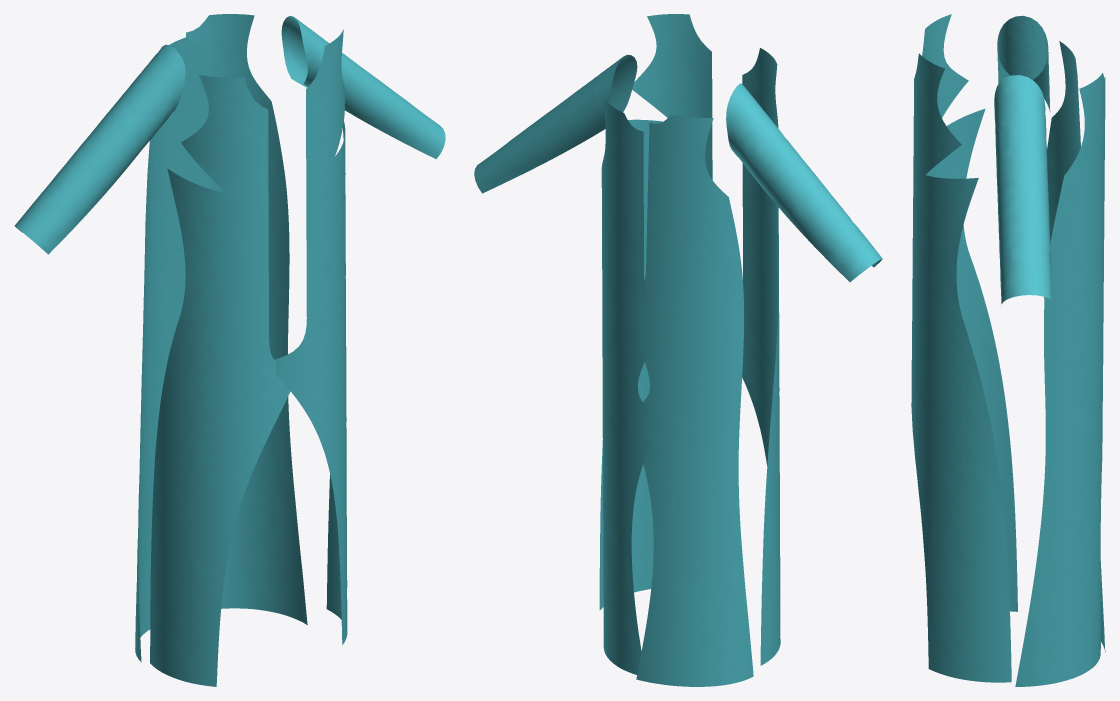
The model's file is pijamamono.obj.
The picture shows the model from 3 angles, left to right: view 1: azimuth 30°, elevation 25°; view 2: azimuth 150°, elevation 25°; view 3: azimuth 270°, elevation 25°; orthographic projection. The views are drawn at different scales.
Parts seen in each view (by area): view 1: Pattern2D_2133244, Pattern2D_2133243, Pattern2D_1804165, Pattern2D_1804166, Pattern2D_1662295, Pattern2D_2133245; view 2: Pattern2D_1804166, Pattern2D_1804165, Pattern2D_2133244, Pattern2D_2133243, Pattern2D_1662295, Pattern2D_2133245; view 3: Pattern2D_2133243, Pattern2D_1804165, Pattern2D_2133245, Pattern2D_2133244, Pattern2D_1804166, Pattern2D_1662295.
Part boxes in pixels (x1,y1,x2,y2): Pattern2D_2133244: [150, 75, 290, 686]; Pattern2D_2133243: [274, 29, 347, 644]; Pattern2D_1804165: [186, 14, 307, 624]; Pattern2D_1804166: [135, 37, 207, 662]; Pattern2D_1662295: [14, 44, 185, 254]; Pattern2D_2133245: [281, 16, 445, 159]; Pattern2D_1804166: [636, 114, 753, 686]; Pattern2D_1804165: [601, 97, 661, 674]; Pattern2D_2133244: [742, 48, 780, 665]; Pattern2D_2133243: [599, 14, 712, 610]; Pattern2D_1662295: [726, 83, 882, 281]; Pattern2D_2133245: [474, 54, 637, 193]; Pattern2D_2133243: [911, 53, 1011, 682]; Pattern2D_1804165: [1015, 73, 1105, 686]; Pattern2D_2133245: [994, 75, 1052, 306]; Pattern2D_2133244: [922, 14, 1017, 611]; Pattern2D_1804166: [1044, 41, 1105, 652]; Pattern2D_1662295: [997, 15, 1050, 112].
Size of the model in its own units: 1.15 by 1.63 by 0.4596.
